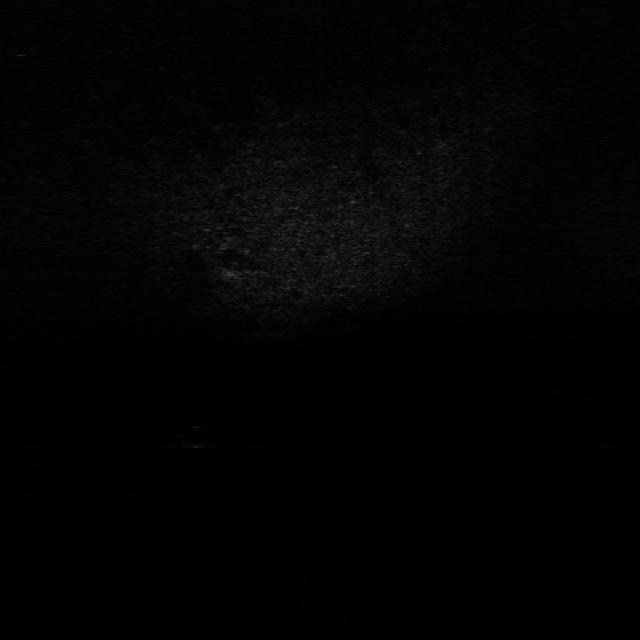ball: (179, 420, 212, 450)
